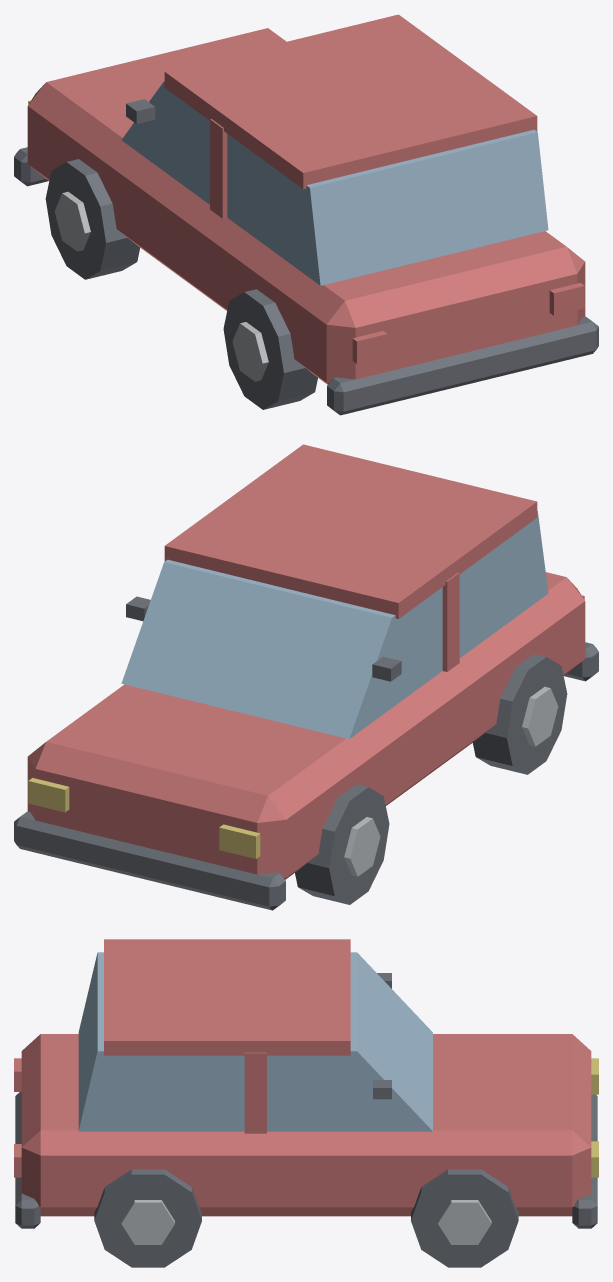
File: veiculos__carro.glb
The picture shows the model from 3 angles, top to bottom: view 1: azimuth 30°, elevation 25°; view 2: azimuth 150°, elevation 25°; view 3: azimuth 270°, elevation 25°; orthographic projection. The views are drawn at different scales.
Visible parts, largest first — view 1: veiculos__carro; view 2: veiculos__carro; view 3: veiculos__carro.
Part boxes in pixels (box(x1,y1,x2,y2)): veiculos__carro: box(14, 14, 598, 415); veiculos__carro: box(14, 444, 598, 910); veiculos__carro: box(14, 939, 598, 1267).
Bounding box in the file's own units: 0.48 × 0.3758 × 0.924.
